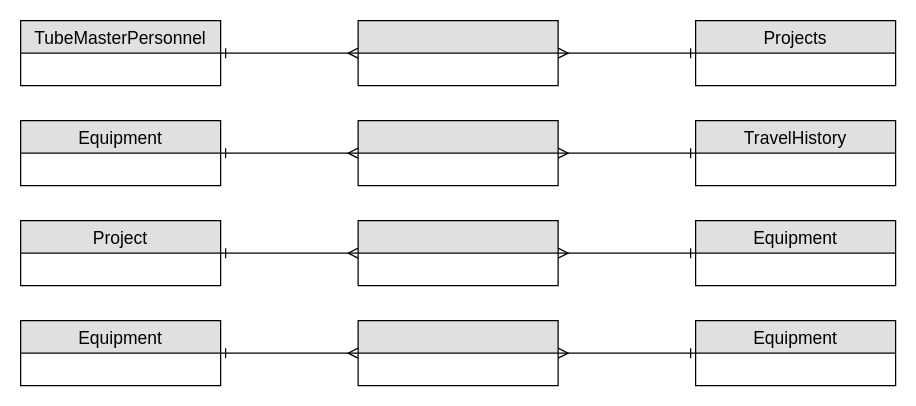
The diagram is 916 pixels wide and 406 high, and some of its shapes have lost their labels. The shapes that lost their labels are listed below. From the top down, each one's centre as x and y in pixels, then its label:
(x=457, y=52): ProjectPersonnel
(x=457, y=152): TraveledEquipment
(x=457, y=252): ProjectEquipment
(x=457, y=352): AssemblyParts
